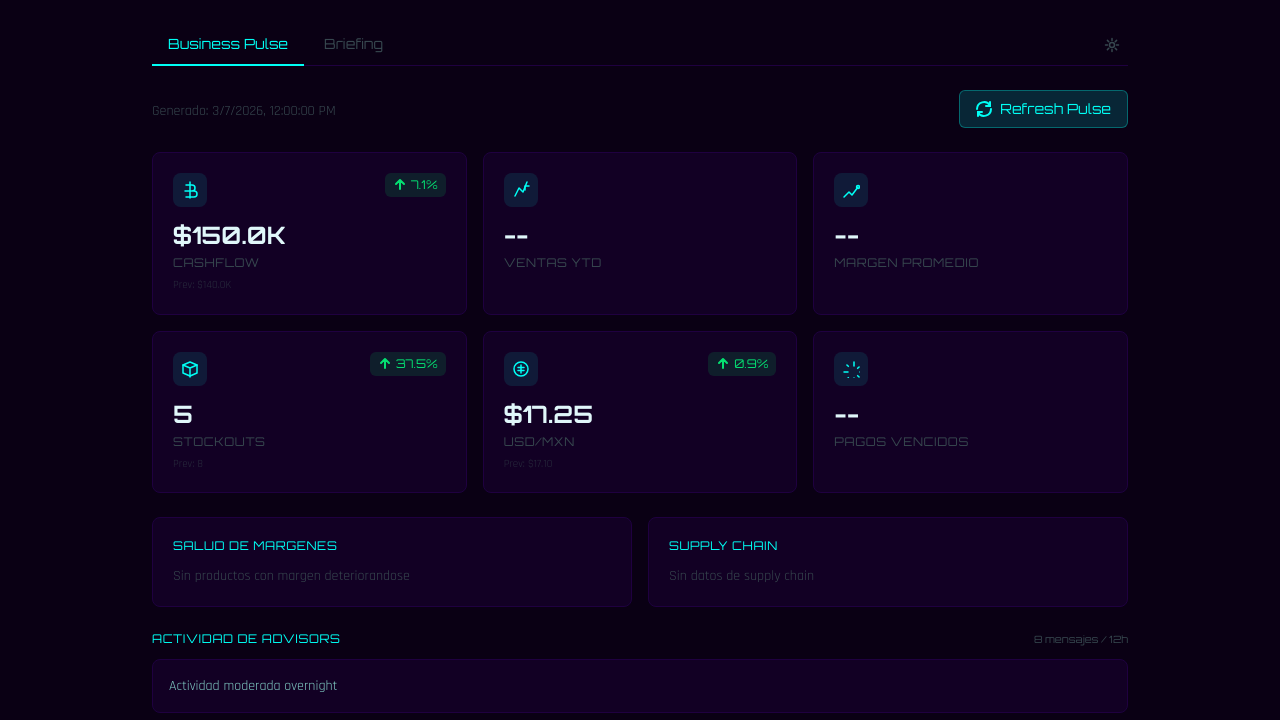
Briefing Tab › date navigation works: prev button changes date display
The image size is (1280, 720).
Click the button with test id "tab-briefing". click: (354, 45)
box: 308,24 -> 399,66
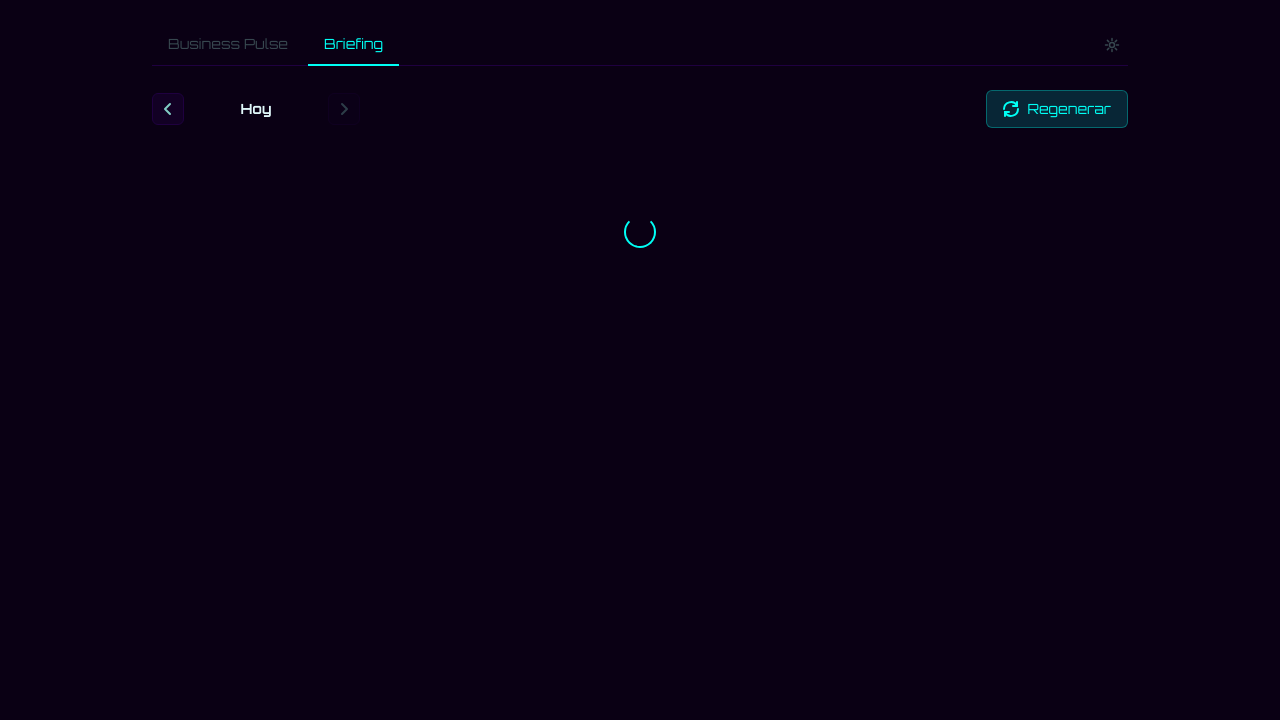
Check: the element with test id "date-nav" is shown, box 152,93 -> 360,125
Check: the text with test id "date-display" reads "Hoy", box 240,100 -> 272,117
Check: the button with test id "date-next" is disabled, box 328,93 -> 360,125
// Click prev to go to yesterday
Click the button with test id "date-prev". click: (168, 109)
box: 152,93 -> 184,125
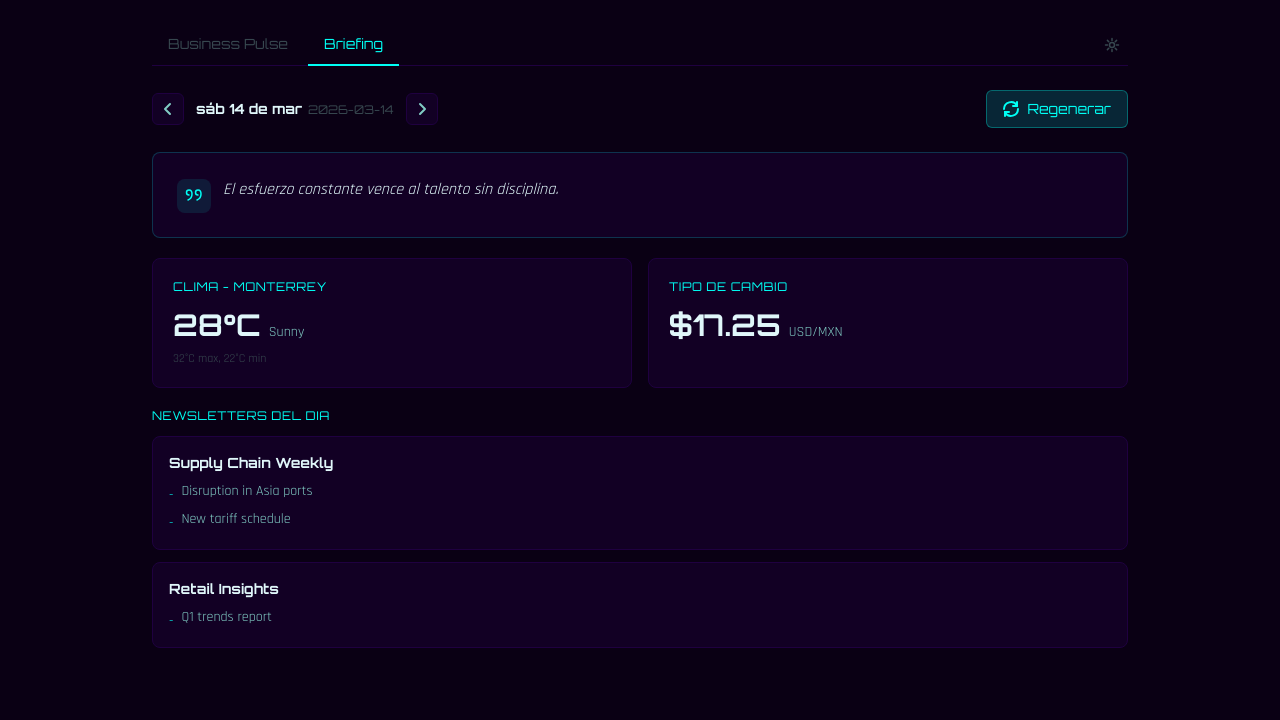
Check: the text with test id "date-display" no longer shows "Hoy"
